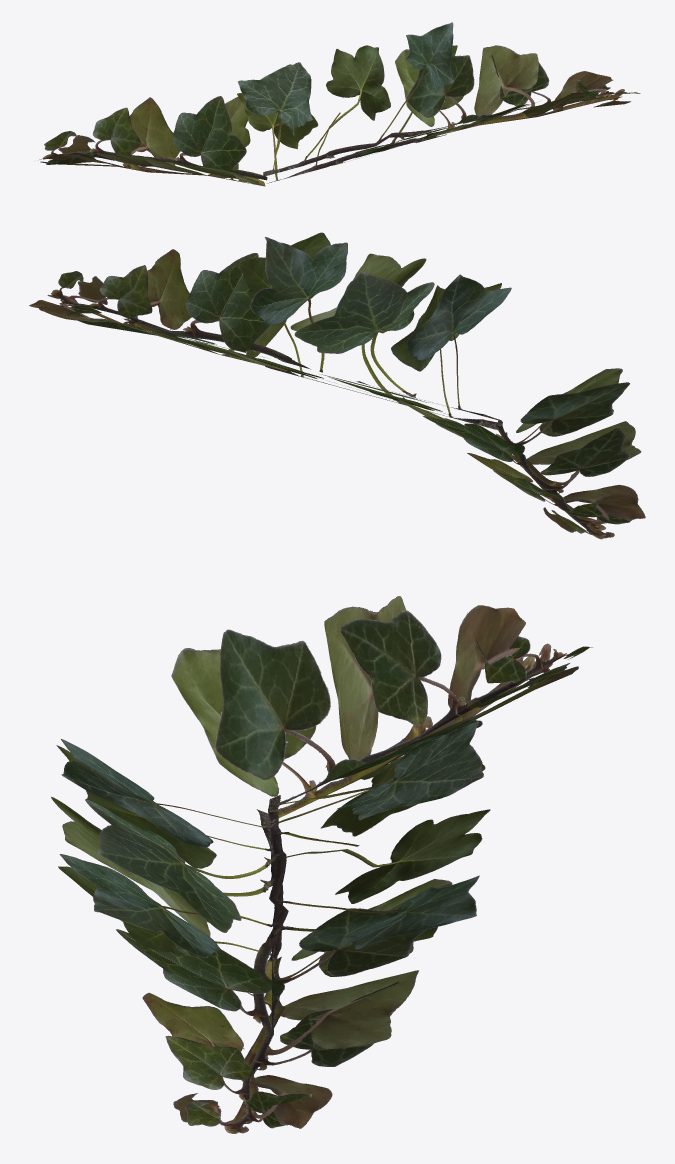
File: stumbletwine_02.fbx
3 renders of one model, top to bottom at view 1: azimuth 30°, elevation 25°; view 2: azimuth 150°, elevation 25°; view 3: azimuth 270°, elevation 25°, orthographic. The views are drawn at different scales.
Visible parts, largest first — view 1: stumbletwine_02; view 2: stumbletwine_02; view 3: stumbletwine_02.
Part boxes in pixels (x1,y1,x2,y2): stumbletwine_02: (39,22,640,186); stumbletwine_02: (29,232,645,539); stumbletwine_02: (51,596,592,1133).
Bounding box in the file's own units: 25.89 × 56.54 × 7.12.
